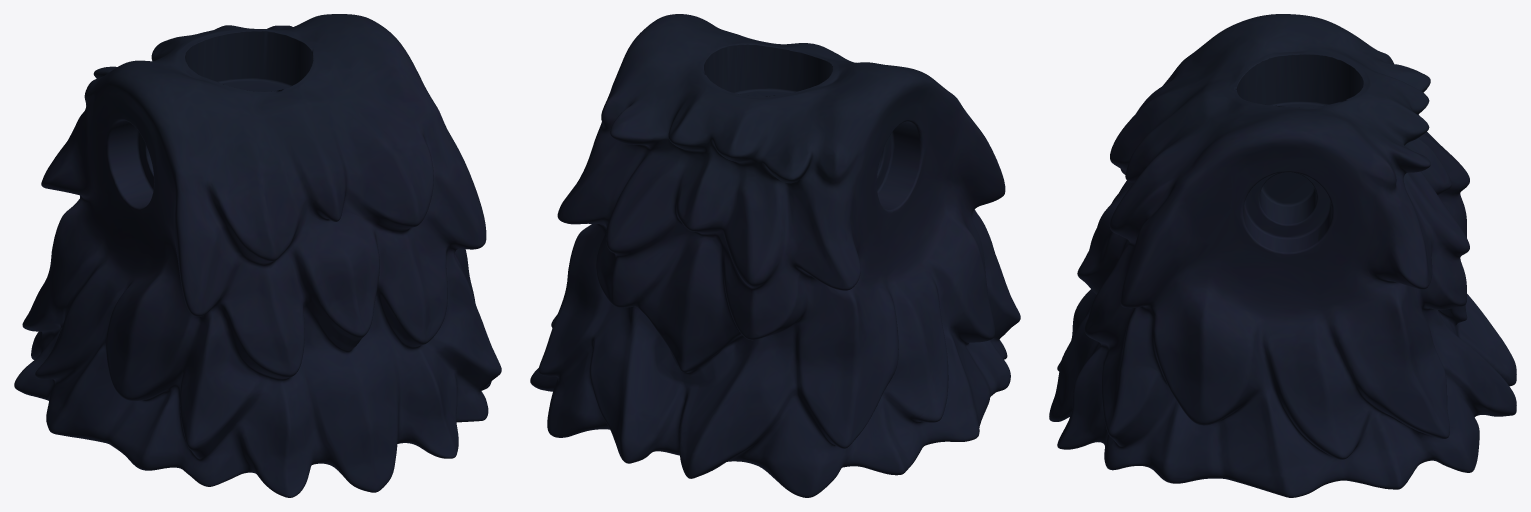
Rendered from Buste_Corbeau.glb.
The picture shows the model from 3 angles, left to right: view 1: azimuth 30°, elevation 25°; view 2: azimuth 150°, elevation 25°; view 3: azimuth 270°, elevation 25°; orthographic projection.
Parts seen in each view (by area): view 1: Buste_Corbeau; view 2: Buste_Corbeau; view 3: Buste_Corbeau.
Part boxes in pixels (box(x1,y1,x2,y2)): Buste_Corbeau: box(14, 14, 501, 497); Buste_Corbeau: box(530, 14, 1020, 497); Buste_Corbeau: box(1049, 14, 1516, 497).
Bounding box in the file's own units: 4.73 × 3.93 × 4.74.
